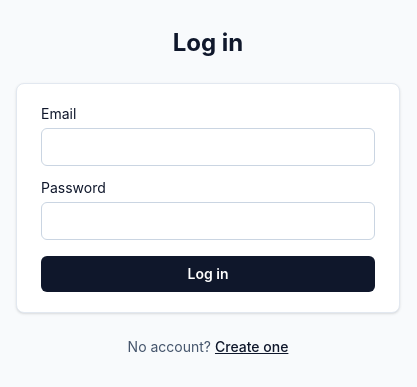
it: login flow › surfaces a string `detail` error in full (not its first character)
The image size is (417, 387).
Check: the button "Log in" is shown, box [41,256,375,292]
Type "ada@example.com" into the field labelled "Email" at (208, 147), box [41,128,375,166]
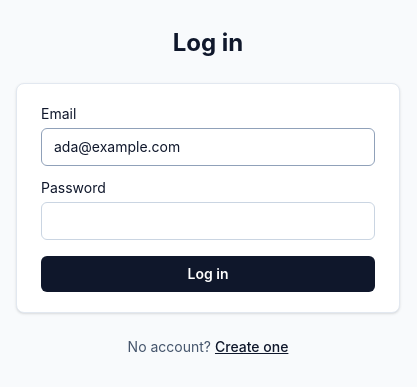
Type "s3cure-pass-23" into the password field labelled "Password" at (208, 221), box [41,202,375,240]
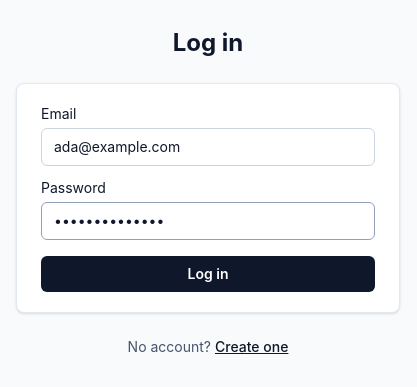
Click the button "Log in" at (208, 274), box [41,256,375,292]
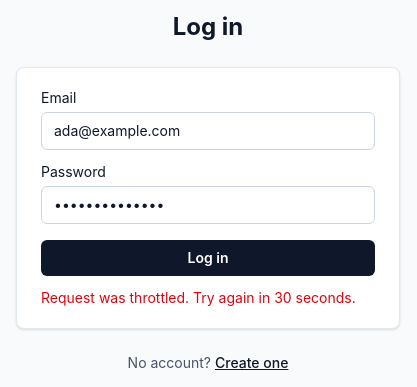
Check: the text "Request was throttled. Try again in 30 seconds." is shown, box [41,288,375,308]
